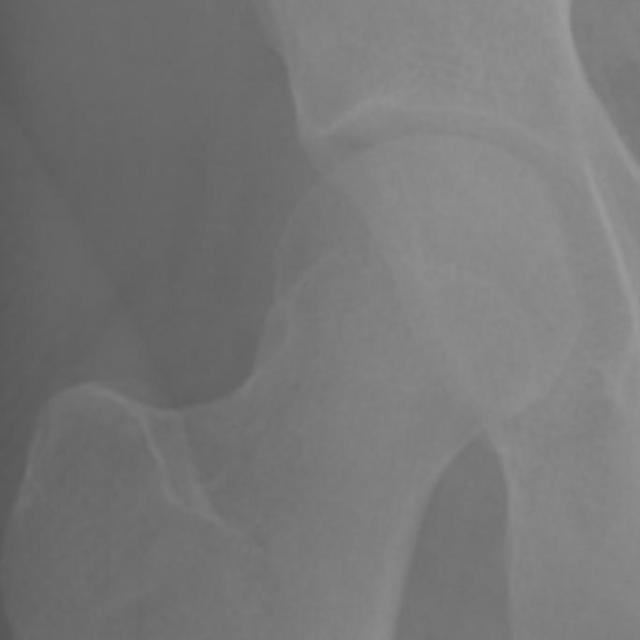Fitted_femural_head: (311, 133, 432, 311)
